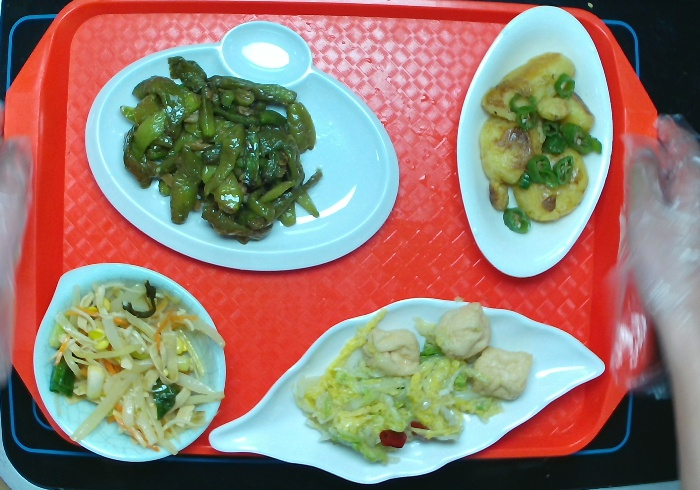RJxy-Bai_Se_Tuo_Yuan: (457, 5, 614, 280)
RJxy-Shu_Ye_Pan: (208, 298, 611, 490)
RJxy-Xiao_Jiao_Yuan_Wan: (33, 257, 228, 462)
RJxy-Zhan_Liao_Pan: (84, 20, 398, 271)
